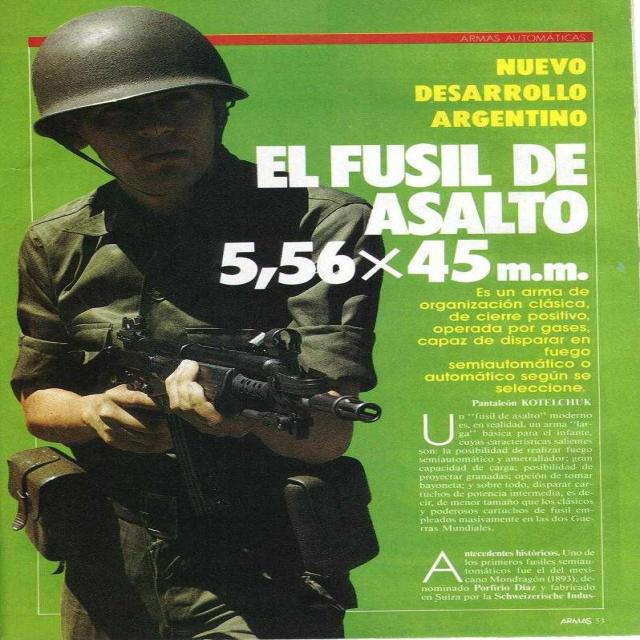heavyweapon: (52, 298, 389, 522)
